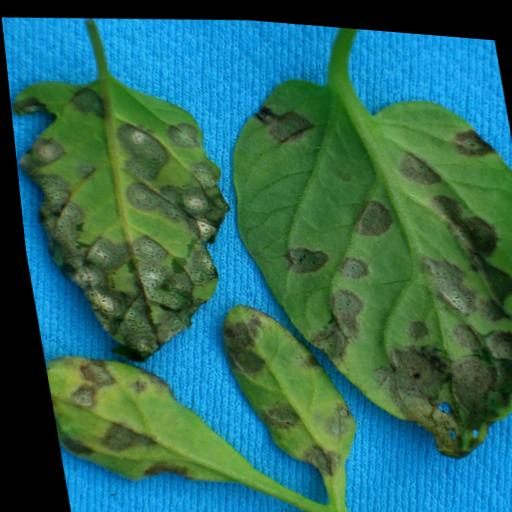Septoria: (204, 53, 512, 474), (5, 63, 249, 377), (34, 342, 268, 497), (204, 287, 358, 482)
